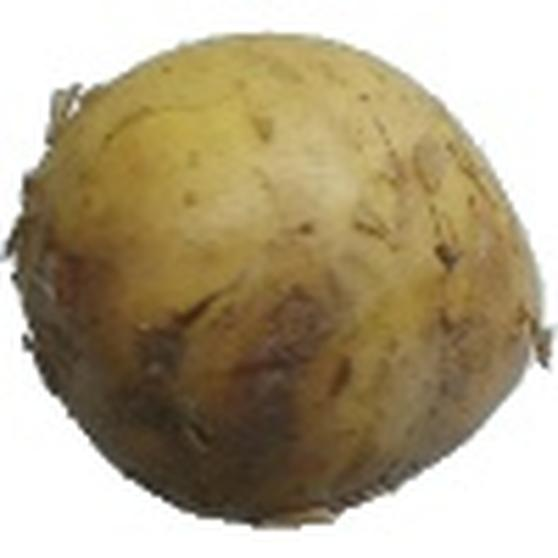potato: (14, 30, 544, 532)
